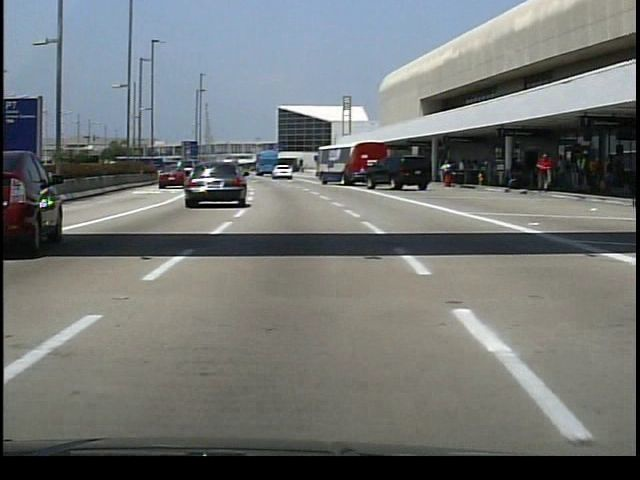person: (530, 150, 555, 194), (599, 156, 617, 193), (574, 151, 587, 191), (440, 158, 455, 188), (508, 156, 520, 186)
